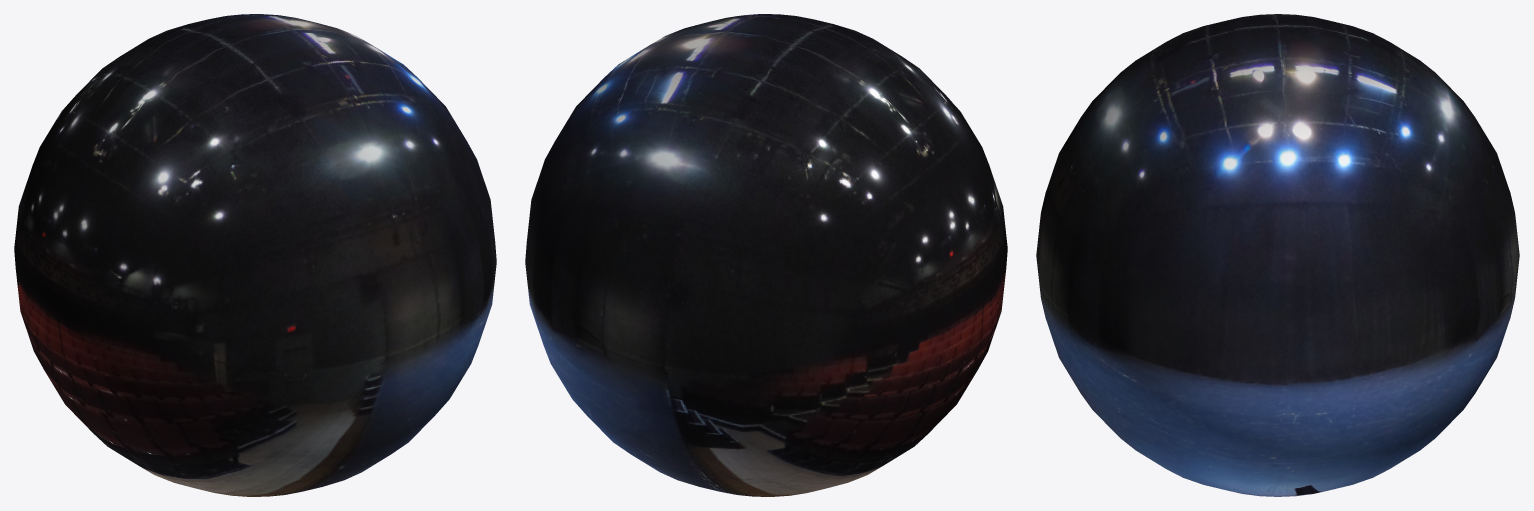
The model's file is Stage_Sphere.glb.
The picture shows the model from 3 angles, left to right: view 1: azimuth 30°, elevation 25°; view 2: azimuth 150°, elevation 25°; view 3: azimuth 270°, elevation 25°; orthographic projection.
Visible parts, largest first — view 1: Sphere; view 2: Sphere; view 3: Sphere.
Boxes of the visible parts, box(x1,y1,x2,y2) form: Sphere: box(14, 14, 496, 496); Sphere: box(525, 14, 1007, 496); Sphere: box(1036, 14, 1519, 496).
Bounding box in the file's own units: 49.96 × 49.96 × 49.96.
2 materials, 2 textured.
